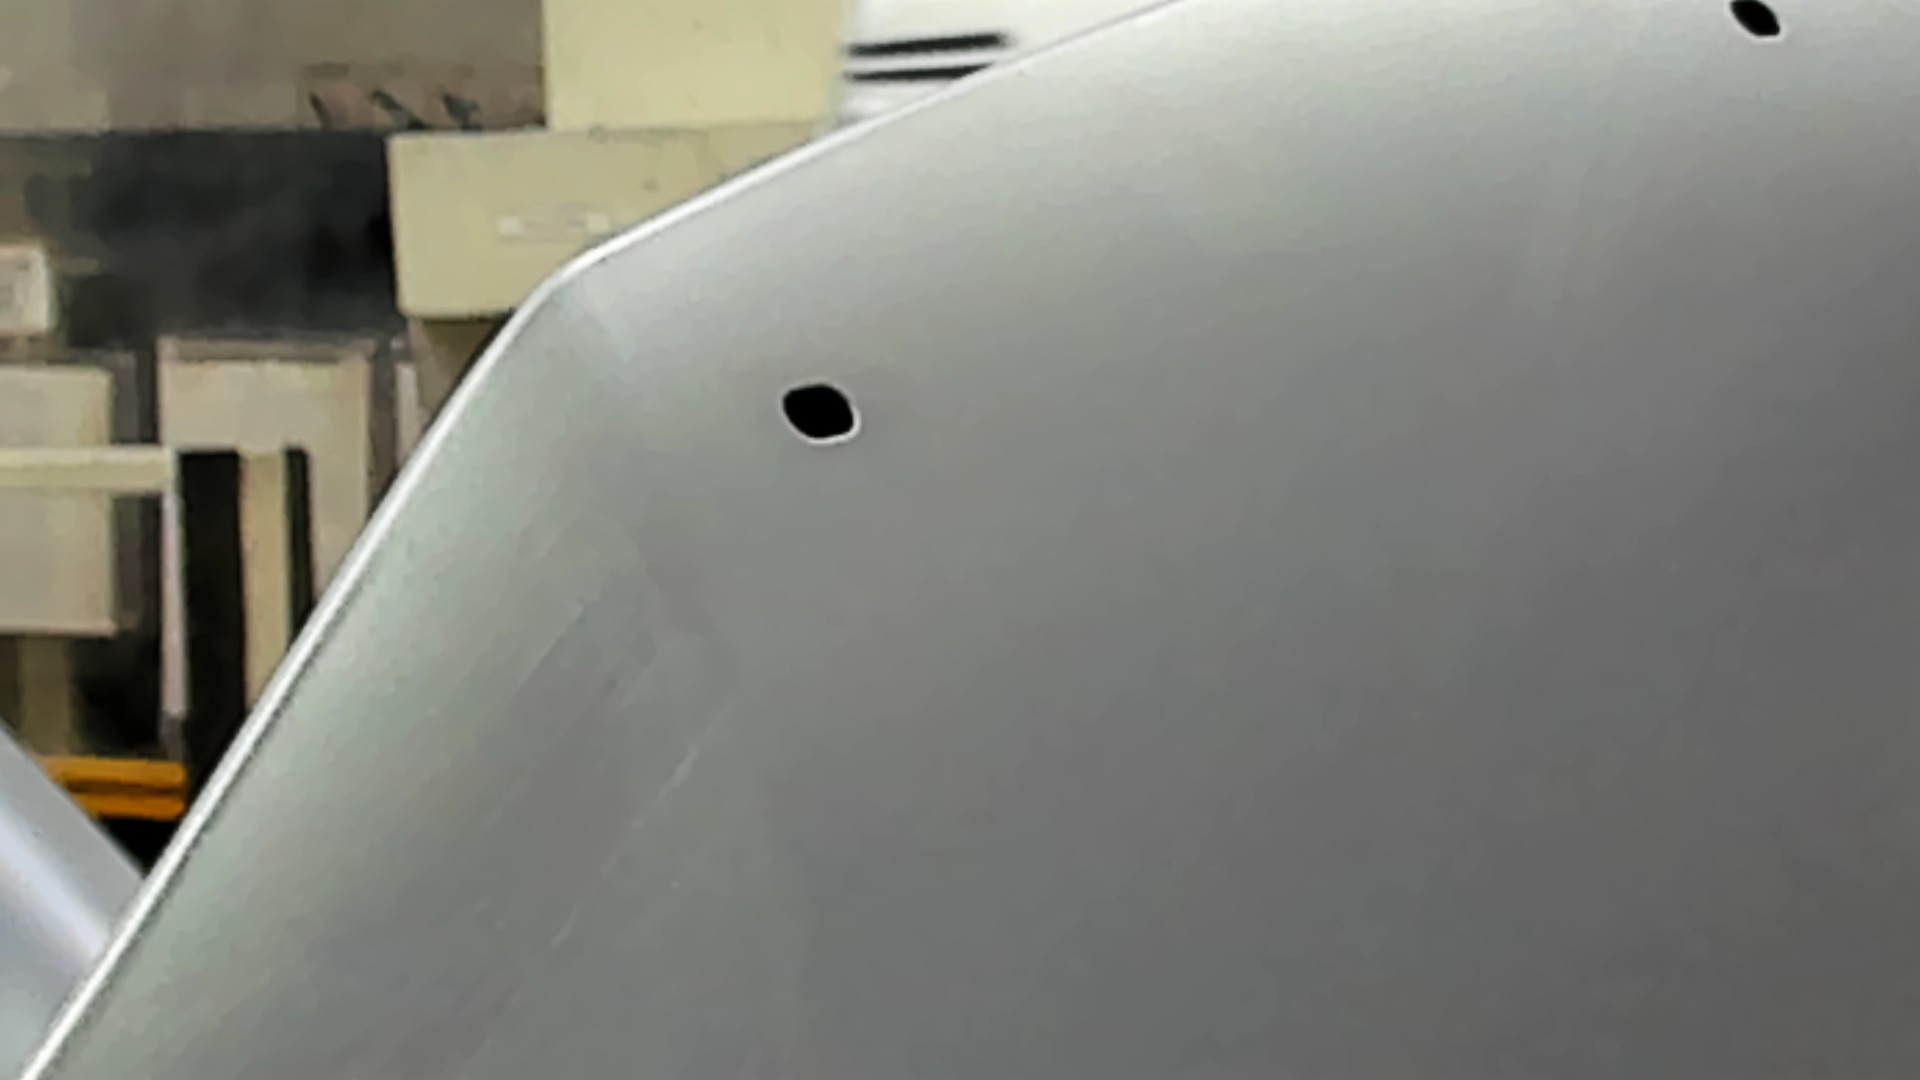amorfo: (778, 377, 861, 444), (1721, 1, 1787, 41)
